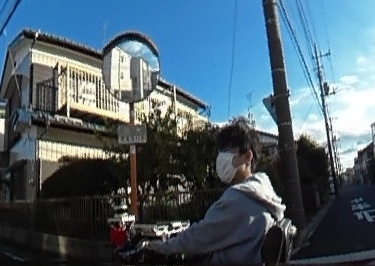person: (168, 118, 289, 266)
